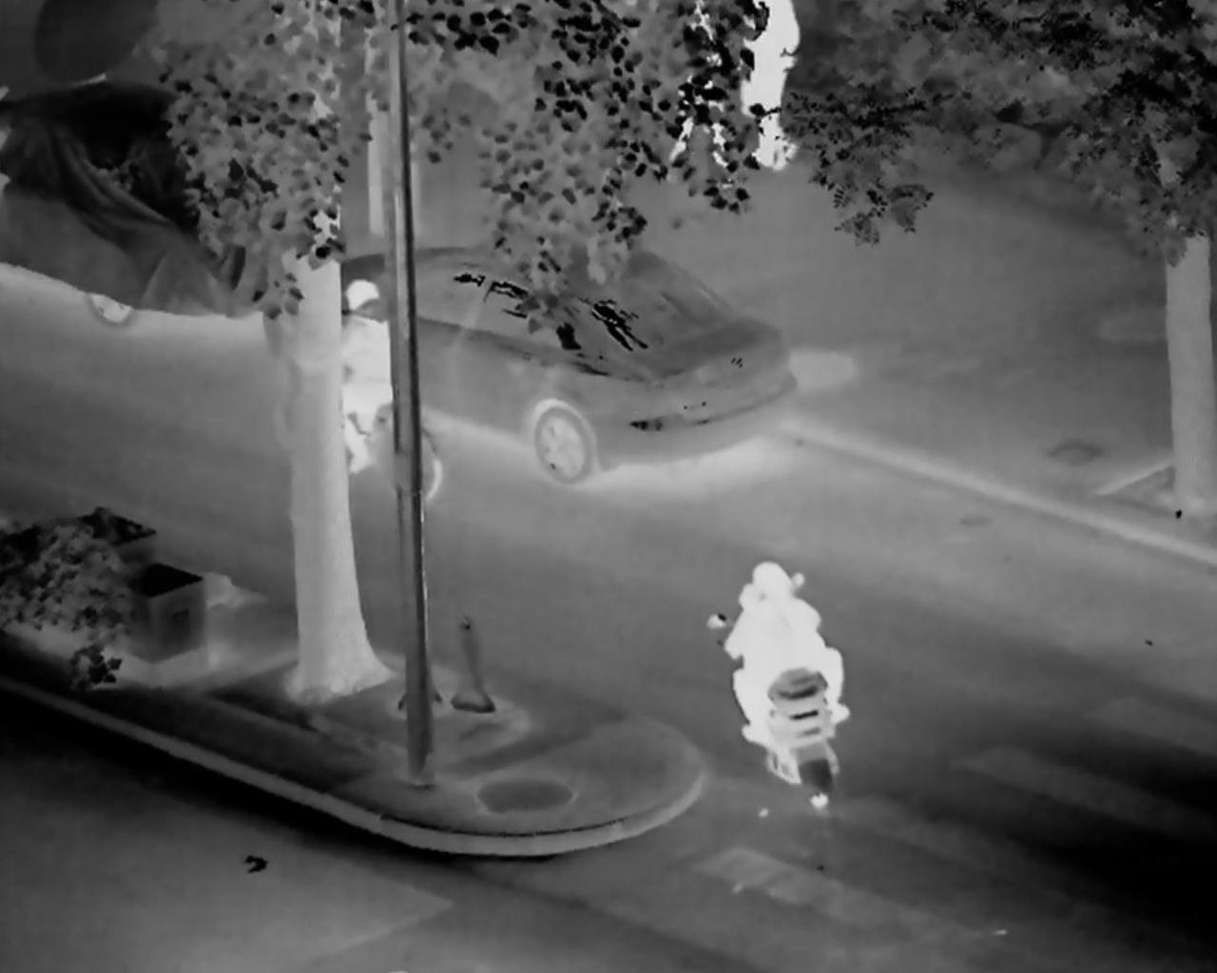person: (703, 551, 865, 791), (322, 278, 439, 485), (658, 3, 730, 185)
